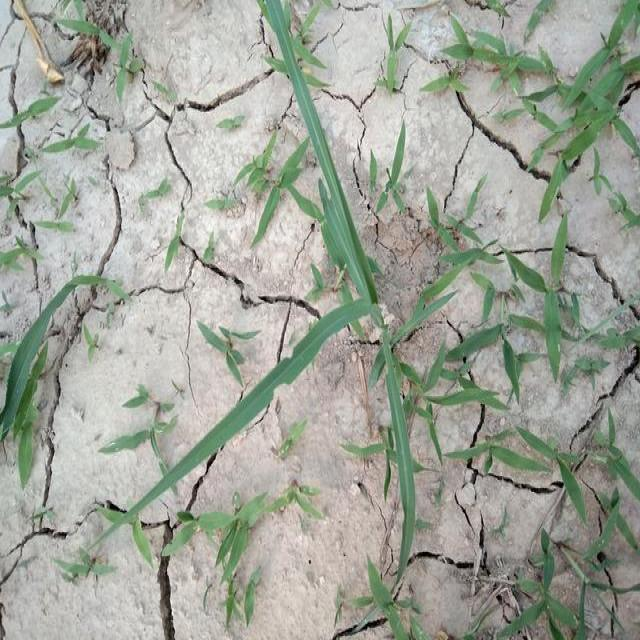weed: (294, 80, 574, 540), (274, 1, 392, 347), (433, 46, 640, 183), (446, 214, 580, 388), (430, 374, 583, 511), (1, 251, 78, 472), (200, 497, 282, 590), (514, 544, 584, 636), (214, 326, 258, 397)
